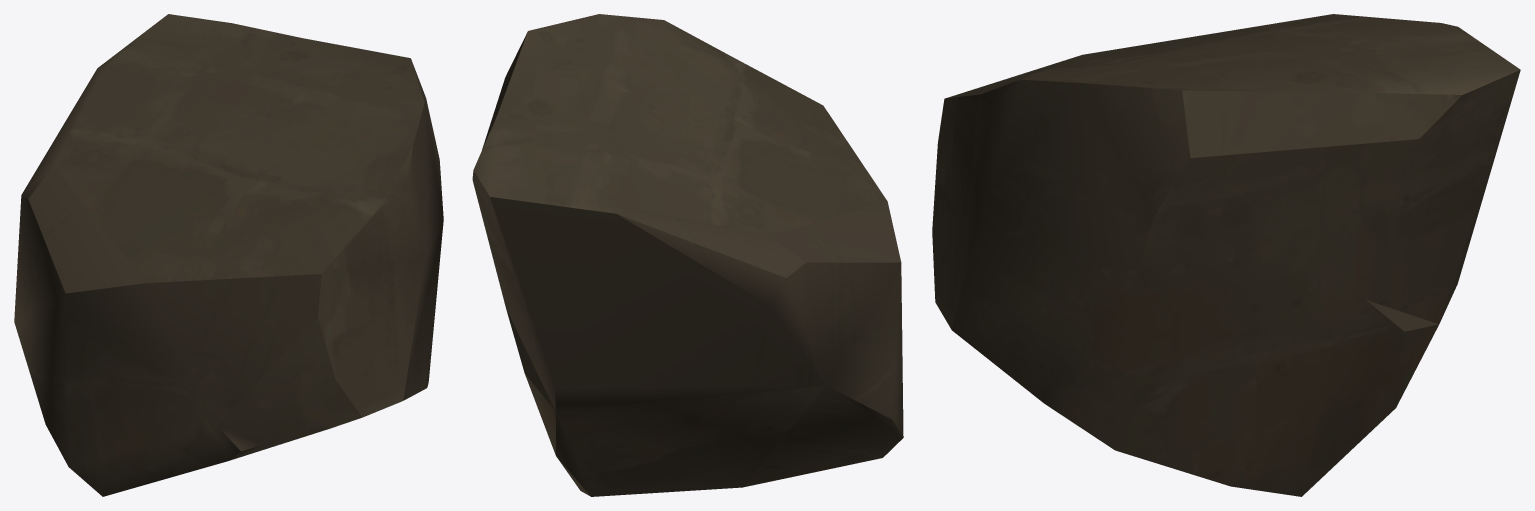
File: Rock_Moss_2.glb
3 renders of one model, left to right at view 1: azimuth 30°, elevation 25°; view 2: azimuth 150°, elevation 25°; view 3: azimuth 270°, elevation 25°, orthographic. The views are drawn at different scales.
Visible parts, largest first — view 1: Rock_0_BrokenRockChunky_LOD0; view 2: Rock_0_BrokenRockChunky_LOD0; view 3: Rock_0_BrokenRockChunky_LOD0.
Boxes of the visible parts, x1,y1,x2,y2 form: Rock_0_BrokenRockChunky_LOD0: [14, 14, 443, 496]; Rock_0_BrokenRockChunky_LOD0: [472, 14, 903, 496]; Rock_0_BrokenRockChunky_LOD0: [932, 14, 1520, 496].
Size of the model in its own units: 2.21 by 2.17 by 2.47.
Materials: 1 (1 with a texture image).
